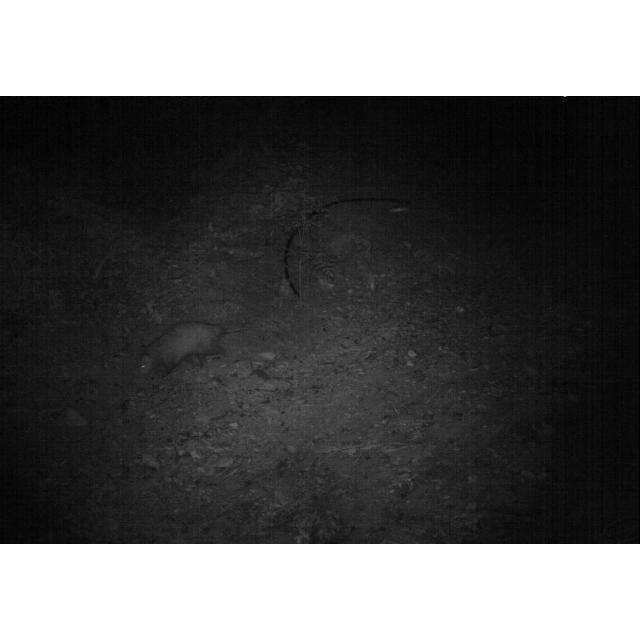animals: (134, 316, 248, 382)
